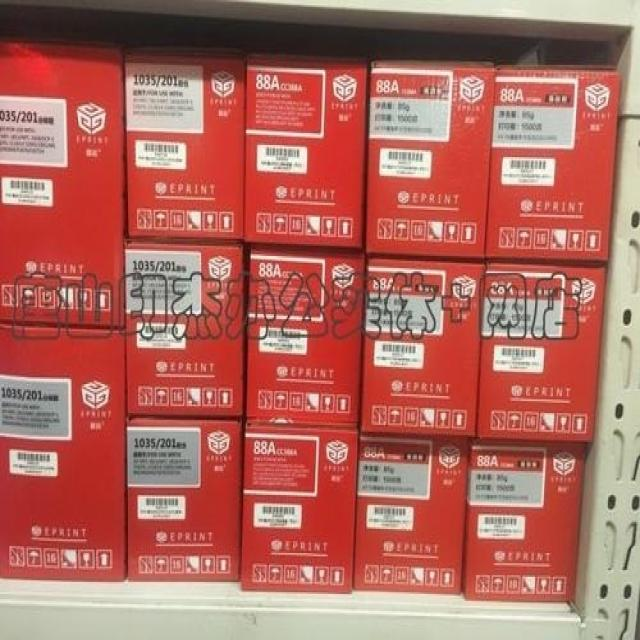box: (0, 43, 123, 328), (0, 324, 125, 582), (485, 63, 622, 261), (364, 60, 493, 258), (476, 259, 611, 442), (120, 53, 243, 239), (243, 61, 366, 247), (357, 256, 484, 435), (246, 241, 364, 428), (123, 239, 244, 416), (461, 435, 586, 601), (125, 415, 243, 584), (238, 427, 357, 594), (353, 428, 470, 594)
